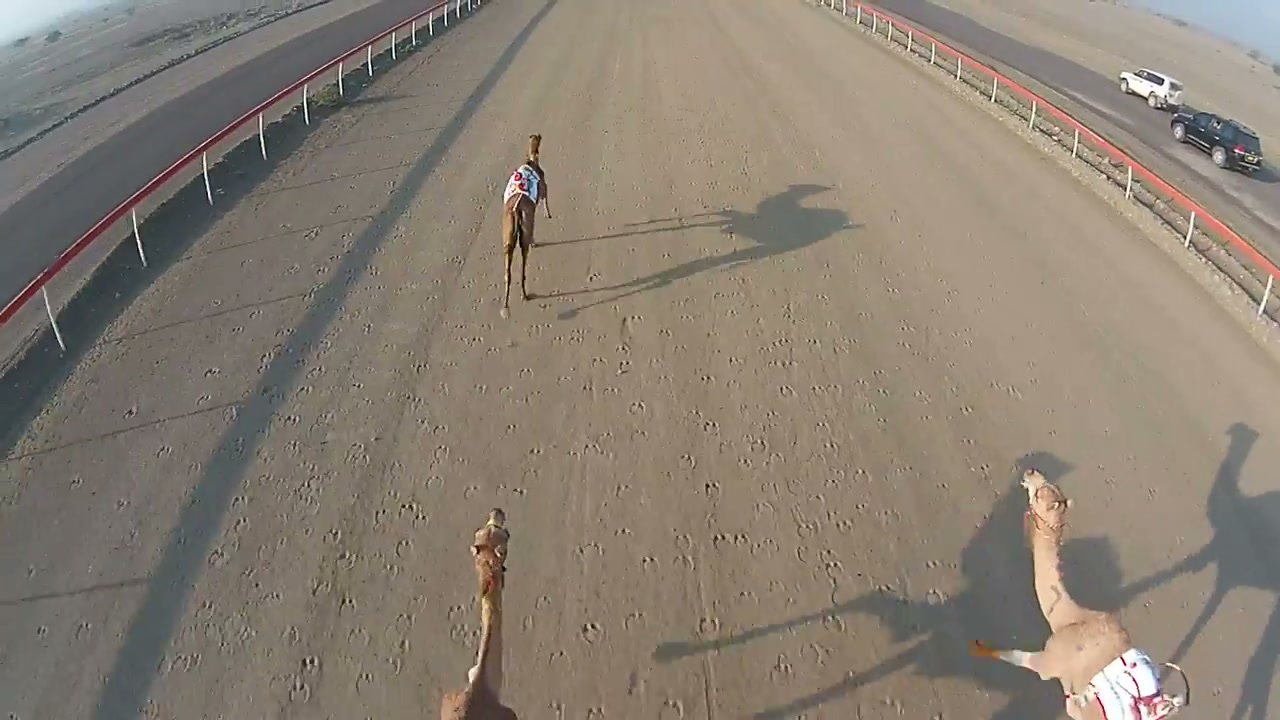animal_foot_print: (540, 286, 910, 715), (246, 329, 602, 677)
